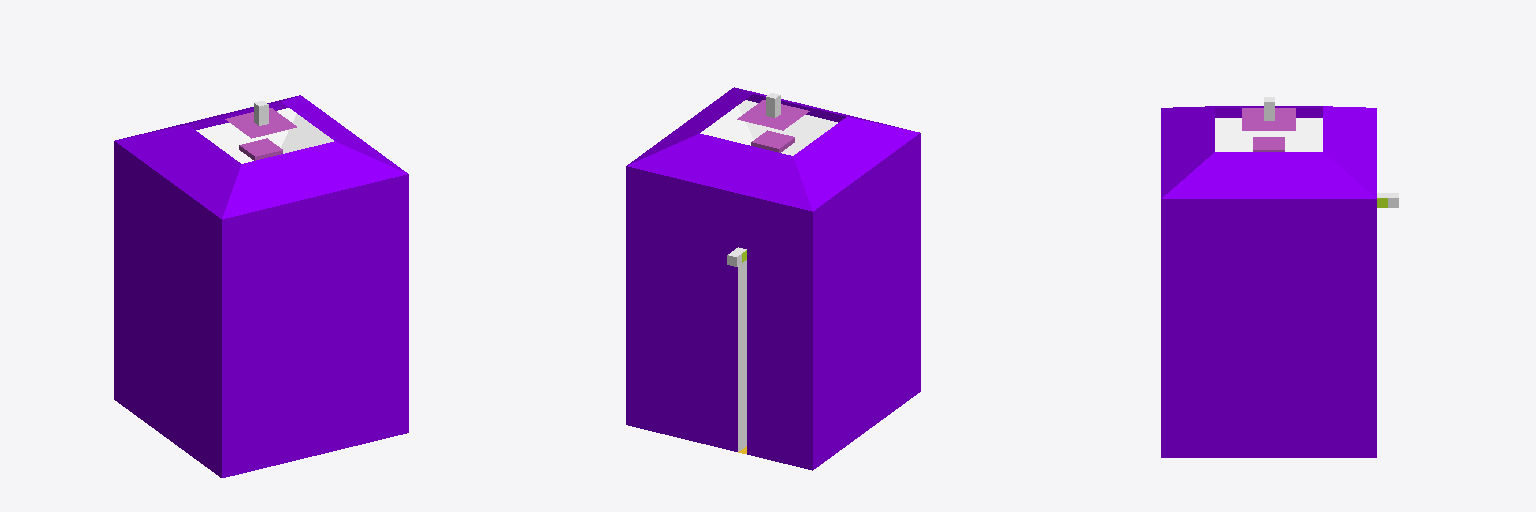
File: Tiny Huge Island Area 3.obj
3 renders of one model, left to right at view 1: azimuth 30°, elevation 25°; view 2: azimuth 150°, elevation 25°; view 3: azimuth 270°, elevation 25°, orthographic.
Bounding box in the file's own units: 8190 × 13106 × 9010.